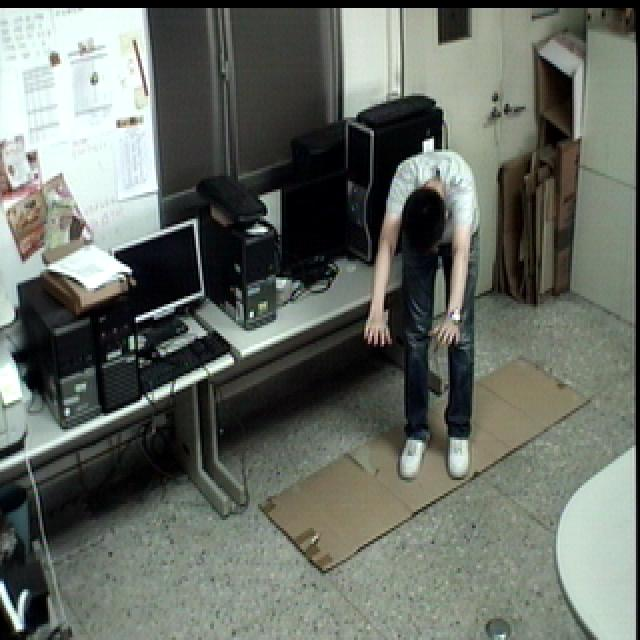bend: (364, 138, 487, 485)
